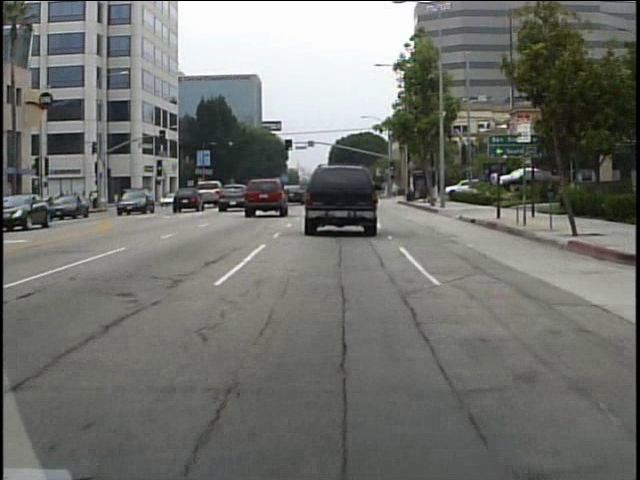person: (134, 187, 145, 208), (388, 181, 399, 201)
